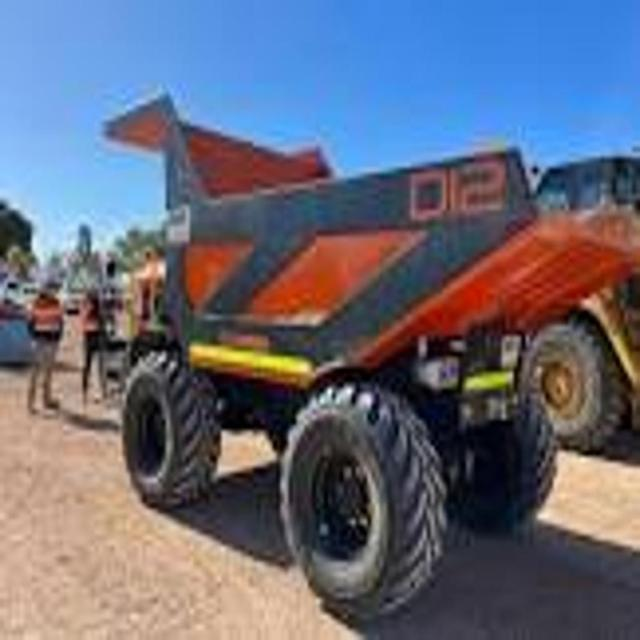dump_truck: (100, 74, 640, 622)
